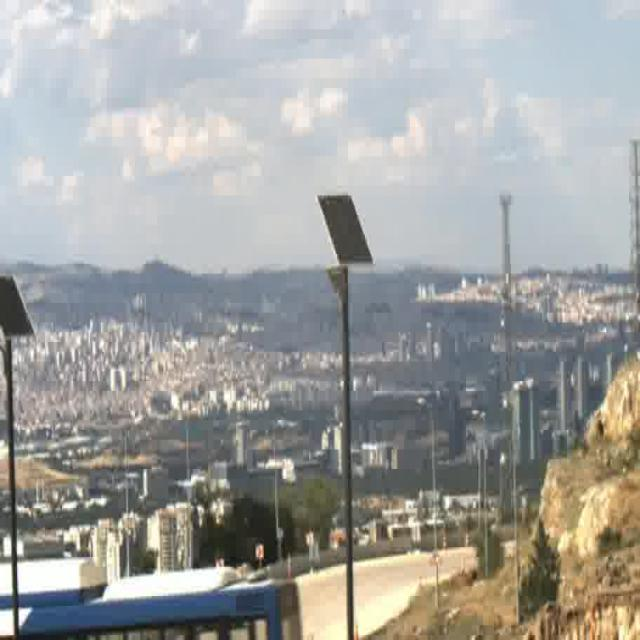Bus: (0, 555, 300, 640)
